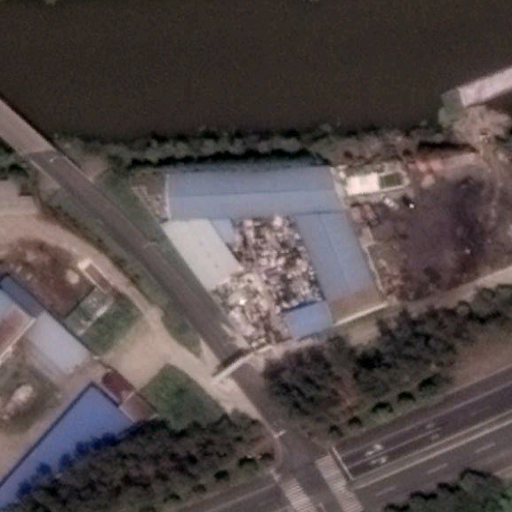msw: (218, 215, 319, 346)
